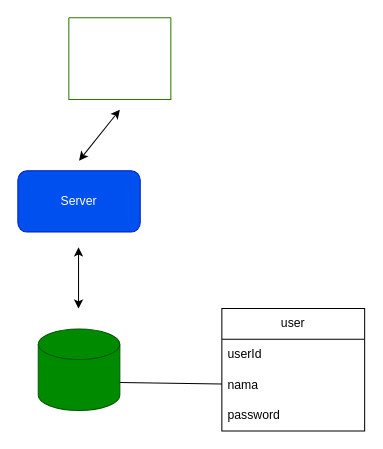
Some shapes in this 383 by 449 pixel diagram are drawn without their labels. The centre of each missing label's shape, as x and y in pixels:
"Database" goes at point 78,369.
"User Interface" goes at point 119,58.
